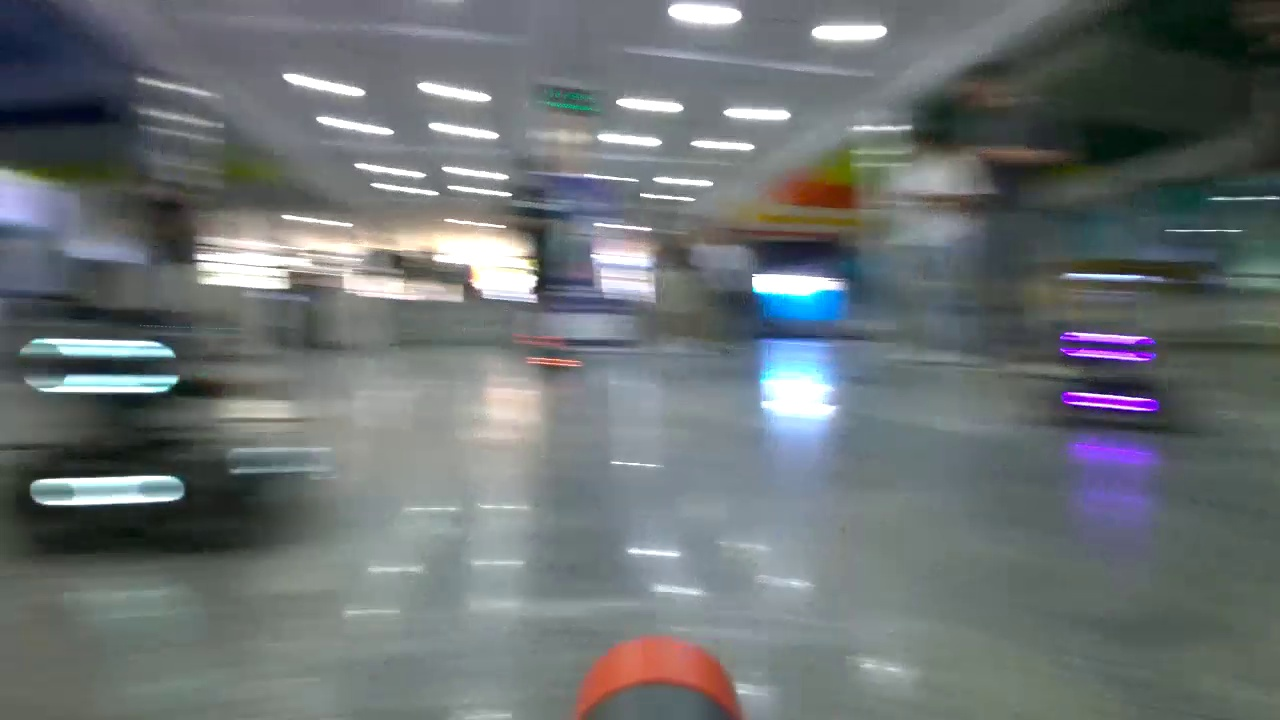robot: (1, 316, 303, 543), (1046, 325, 1176, 423), (511, 332, 584, 367)
